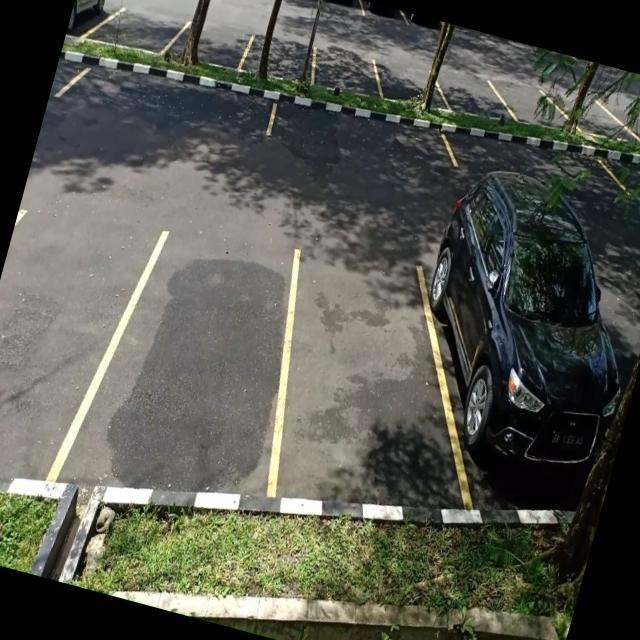empty: (75, 218, 306, 518), (244, 235, 464, 525), (0, 206, 142, 497), (66, 41, 278, 149), (266, 86, 459, 182), (172, 9, 256, 80), (94, 0, 185, 59), (240, 24, 321, 89), (436, 64, 511, 128), (308, 42, 387, 102), (374, 56, 448, 116)
occupied: (383, 195, 640, 526)
